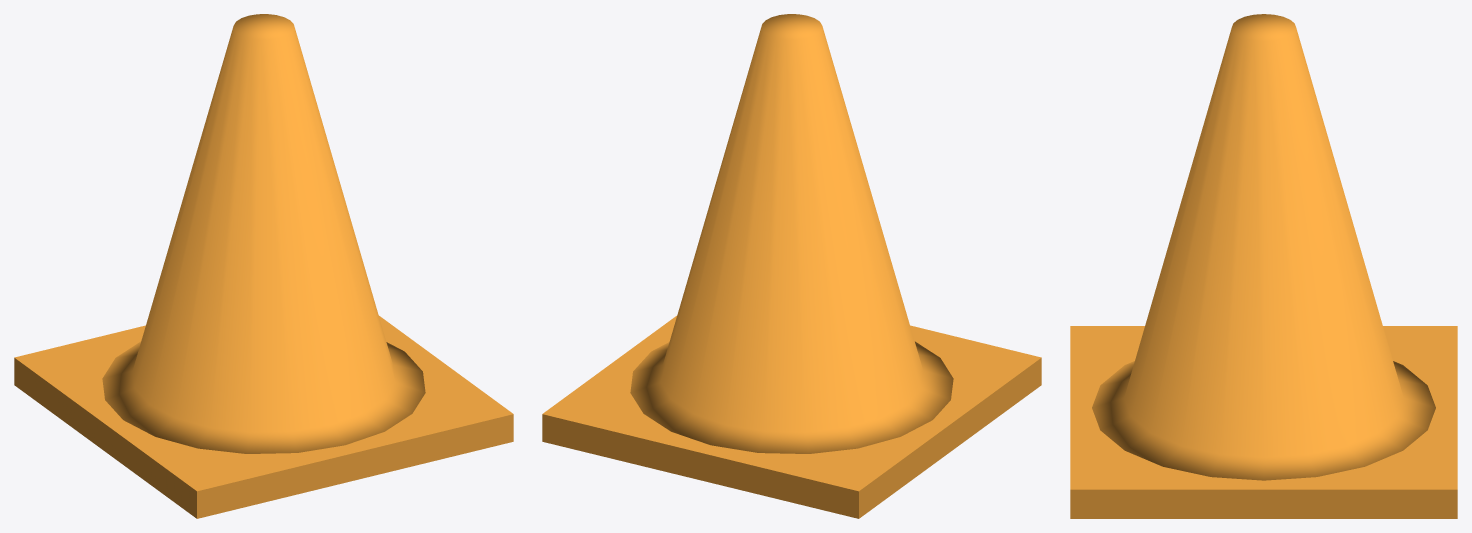
3 renders of one model, left to right at view 1: azimuth 30°, elevation 25°; view 2: azimuth 150°, elevation 25°; view 3: azimuth 270°, elevation 25°, orthographic. The views are drawn at different scales.
Parts seen in each view (by area): view 1: cone, Cube; view 2: cone, Cube; view 3: cone, Cube.
Part boxes in pixels (box(x1,y1,x2,y2)): cone: box(102, 14, 425, 453); Cube: box(14, 315, 513, 518); cone: box(630, 14, 953, 453); Cube: box(542, 315, 1041, 518); cone: box(1092, 14, 1435, 480); Cube: box(1070, 326, 1457, 518).
Bounding box in the file's own units: 0.36 × 0.42 × 0.36.
